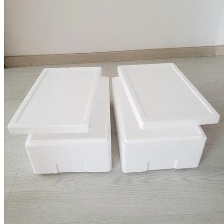foam_box: (110, 58, 222, 176), (5, 60, 113, 177)
